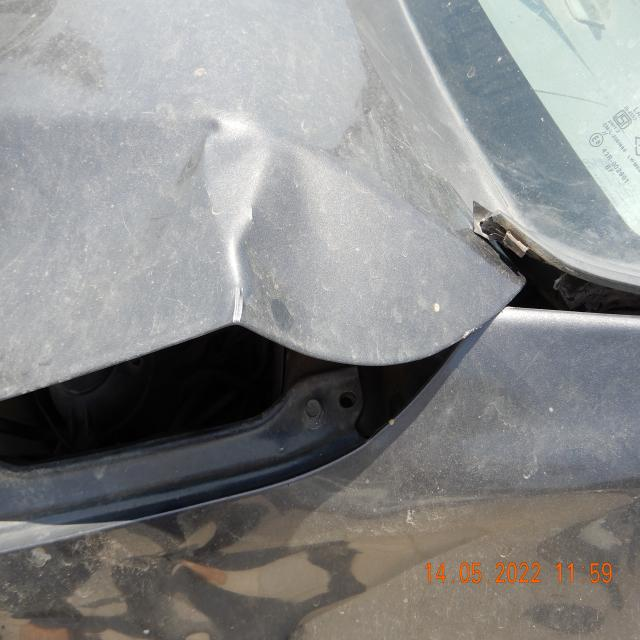damage: (197, 105, 271, 332)
